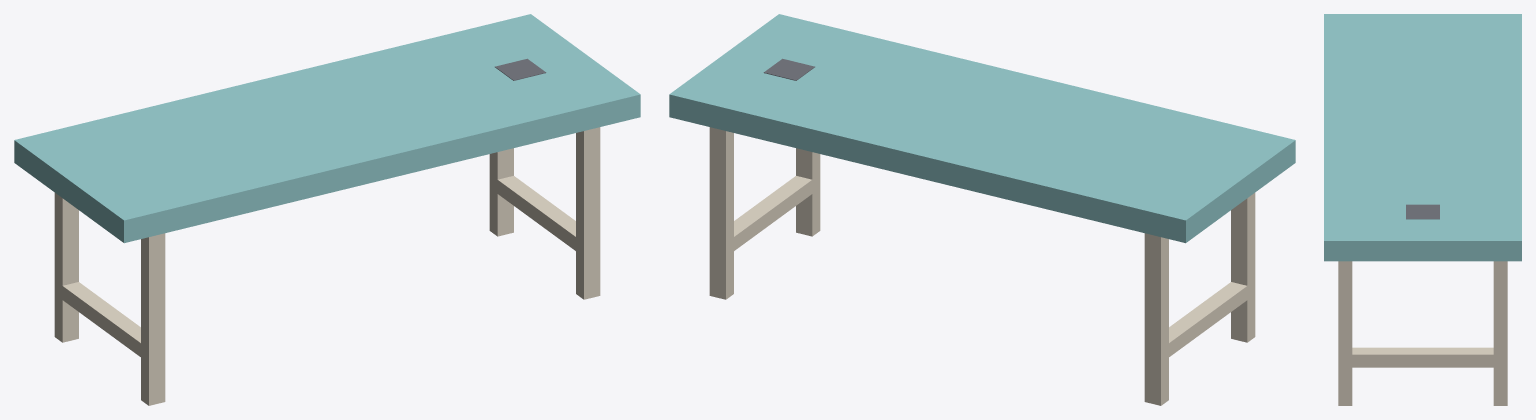
File: kushetka-massazhnaya.glb
3 renders of one model, left to right at view 1: azimuth 30°, elevation 25°; view 2: azimuth 150°, elevation 25°; view 3: azimuth 270°, elevation 25°, orthographic. The views are drawn at different scales.
Bounding box in the file's own units: 1.9 × 0.702 × 0.7.
